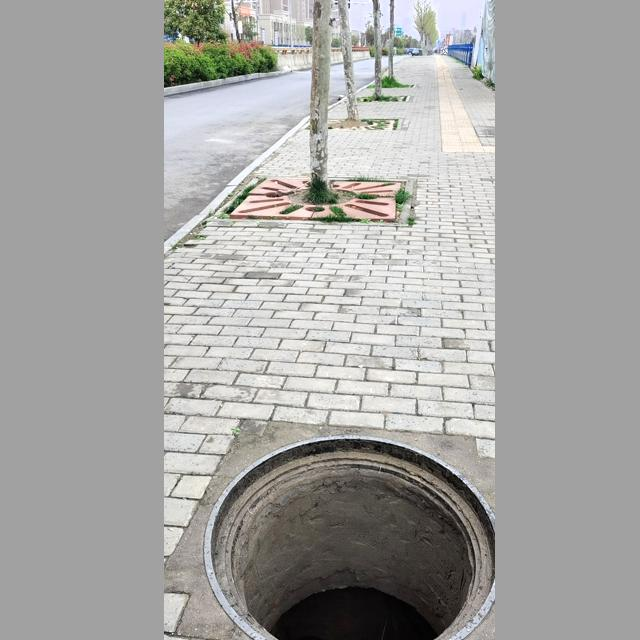lose: (203, 433, 495, 640)
